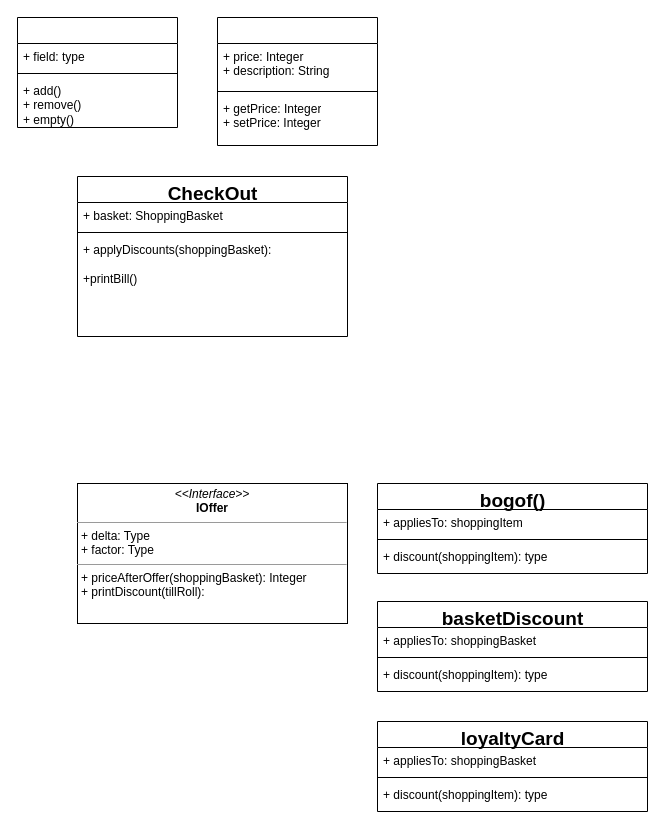
The diagram is 665 pixels wide and 829 high, and some of its shapes have lost their labels. Here are the shapes that lost their labels. From the top down, the box of each, then its label:
(16, 16, 178, 128): shoppingBasket
(216, 16, 378, 146): shoppingItem
